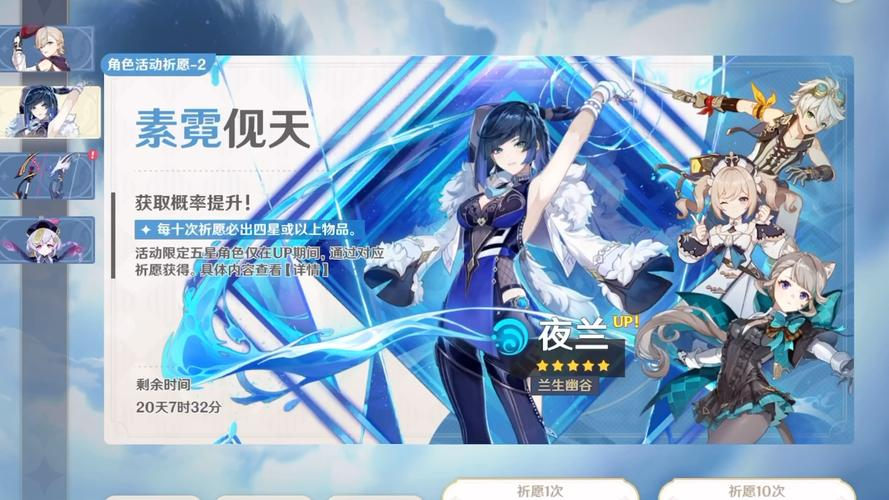夜兰: (433, 74, 637, 444)
